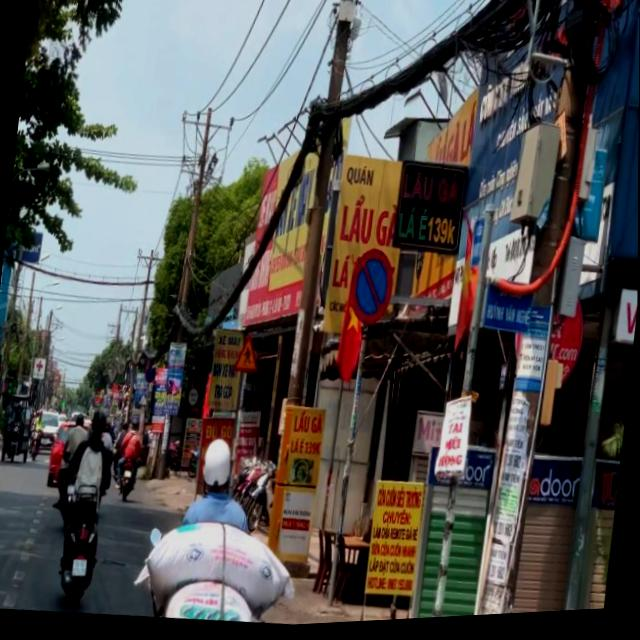Cam do xe: (346, 249, 397, 331)
Nguoi di bo cat ngang: (234, 334, 262, 375)
